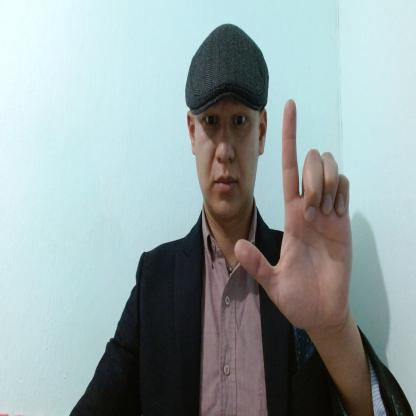L: (235, 99, 352, 328)
